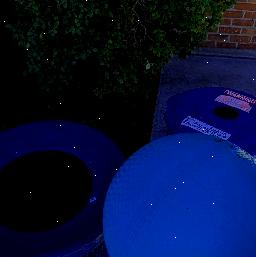algae: (108, 130, 256, 257)
